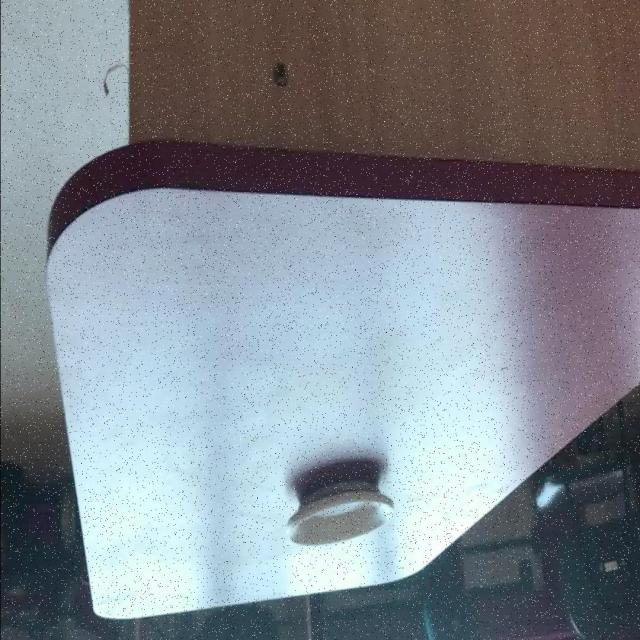Plate: (46, 141, 640, 621), (286, 482, 394, 549)
